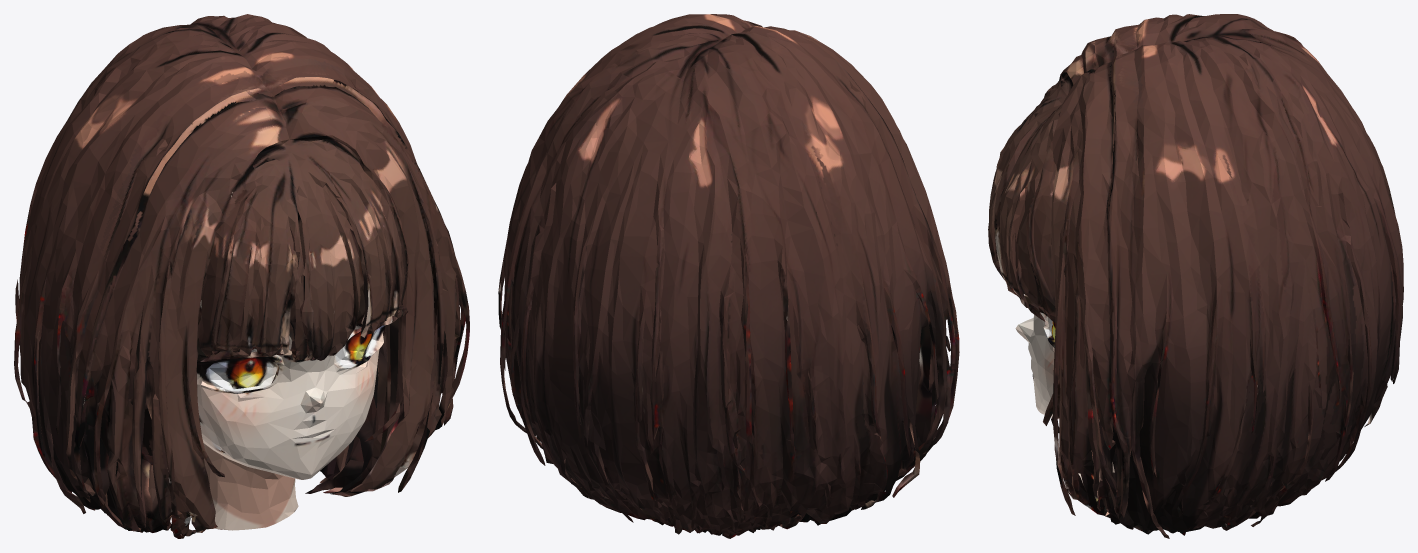
File: trav_shizue_portrait_face.glb
3 renders of one model, left to right at view 1: azimuth 30°, elevation 25°; view 2: azimuth 150°, elevation 25°; view 3: azimuth 270°, elevation 25°, orthographic. The views are drawn at different scales.
Parts seen in each view (by area): view 1: temp_mesh.ply; view 2: temp_mesh.ply; view 3: temp_mesh.ply.
Part boxes in pixels (bbox=[...]): temp_mesh.ply: bbox=[14, 14, 469, 538]; temp_mesh.ply: bbox=[498, 14, 959, 538]; temp_mesh.ply: bbox=[988, 14, 1403, 538].
Size of the model in its own units: 1.73 by 1.96 by 1.61.
1 material, 1 textured.
